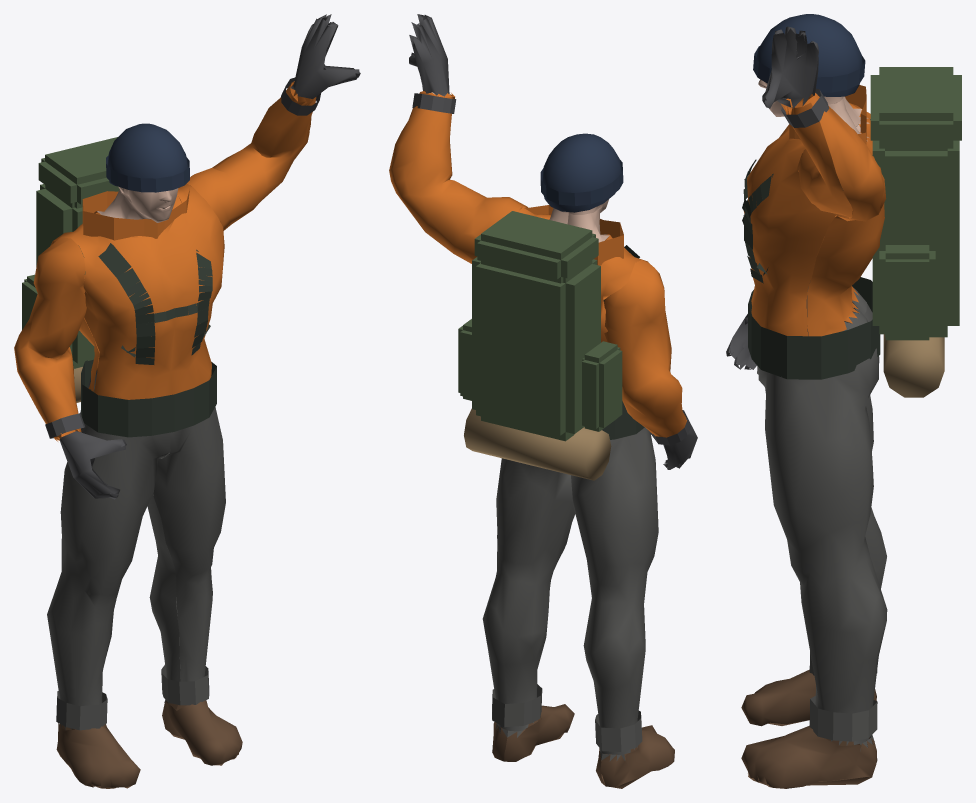
The model's file is hiker-standing.glb.
The picture shows the model from 3 angles, left to right: view 1: azimuth 30°, elevation 25°; view 2: azimuth 150°, elevation 25°; view 3: azimuth 270°, elevation 25°; orthographic projection. The views are drawn at different scales.
Visible parts, largest first — view 1: hiker-standing; view 2: hiker-standing; view 3: hiker-standing.
Boxes of the visible parts, x1=… form: hiker-standing: x1=14, y1=14, x2=360, y2=788; hiker-standing: x1=389, y1=14, x2=697, y2=788; hiker-standing: x1=726, y1=14, x2=961, y2=788.
Bounding box in the file's own units: 0.92 × 2.02 × 0.5257.
